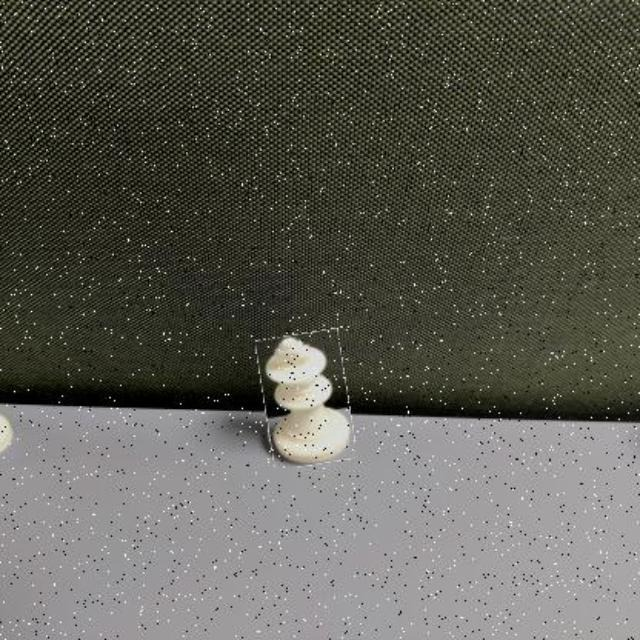white-king: (260, 331, 352, 467)
